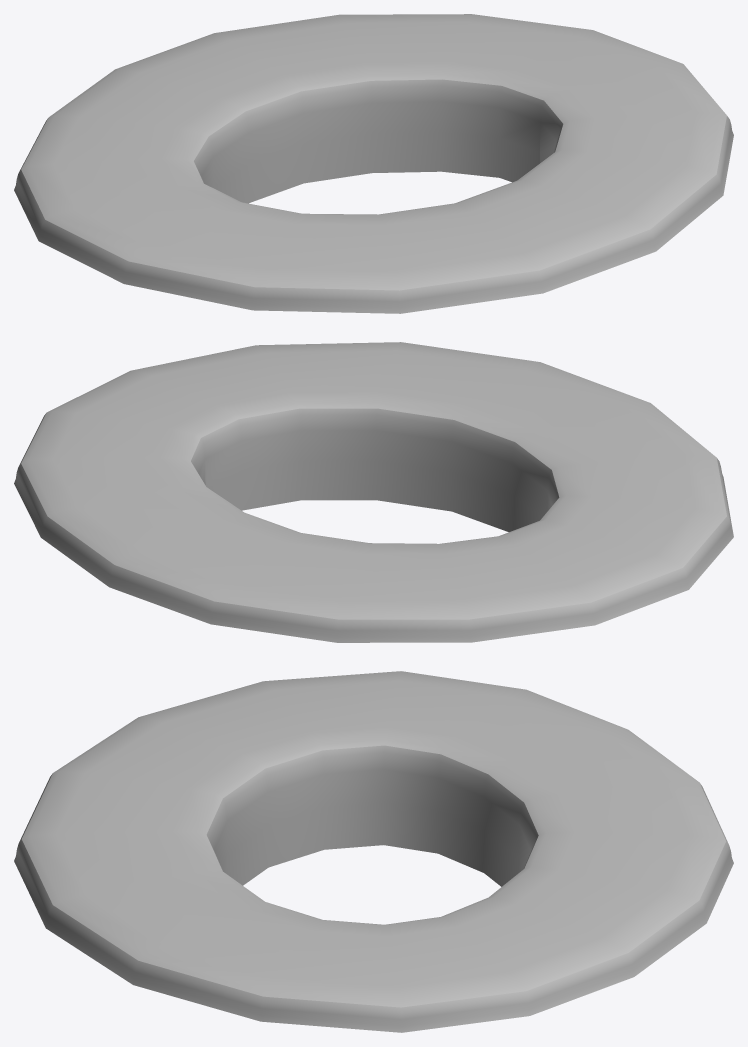
The model's file is AESPA1_03.glb.
3 views of the same model, one above another, from view 1: azimuth 30°, elevation 25°; view 2: azimuth 150°, elevation 25°; view 3: azimuth 270°, elevation 25° (orthographic). The views are drawn at different scales.
Bounding box in the file's own units: 0.088 × 0.0122 × 0.0781.
1 material, 1 textured.
